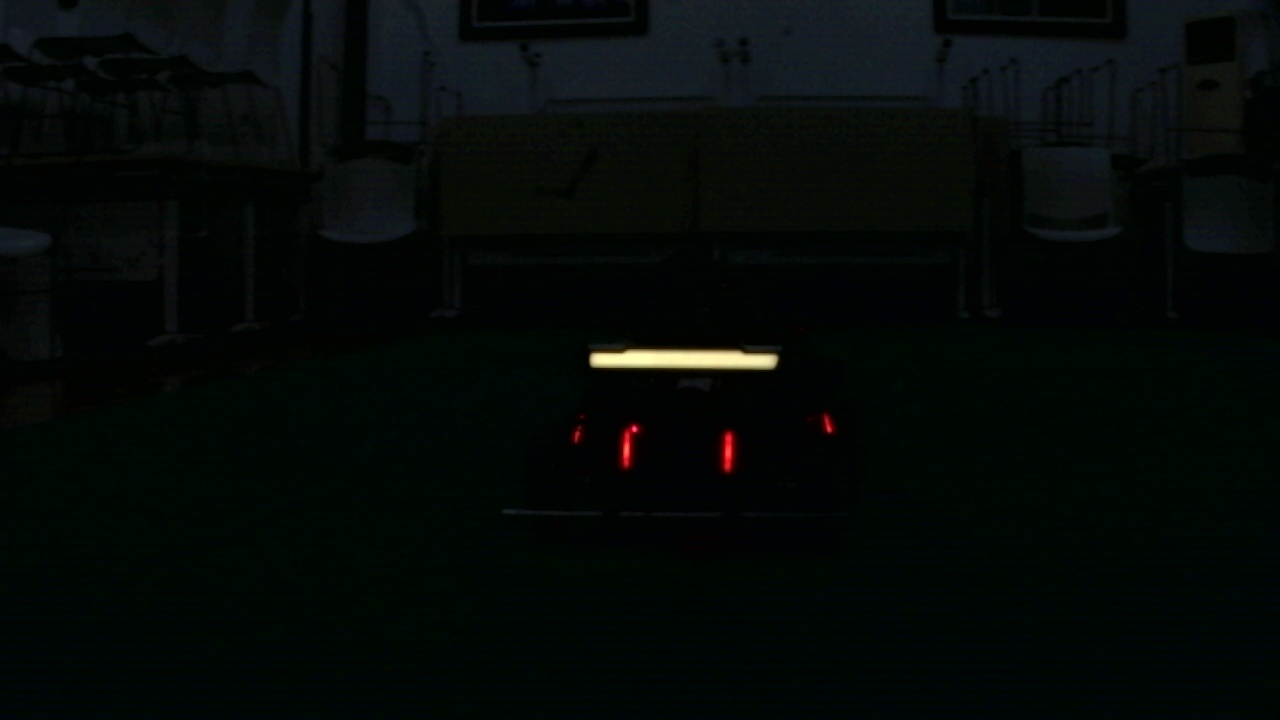lamp: (615, 428, 633, 472), (718, 430, 738, 469)
pair1: (617, 426, 736, 472)
